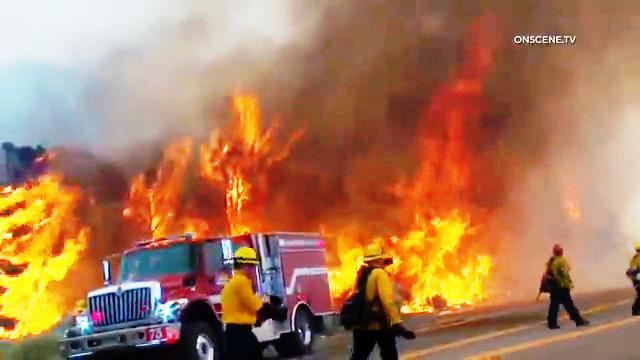fire: (0, 168, 83, 330), (399, 198, 500, 315), (203, 96, 286, 227), (129, 146, 191, 237)
smoke: (0, 29, 180, 117), (245, 6, 416, 93), (522, 65, 640, 189)
